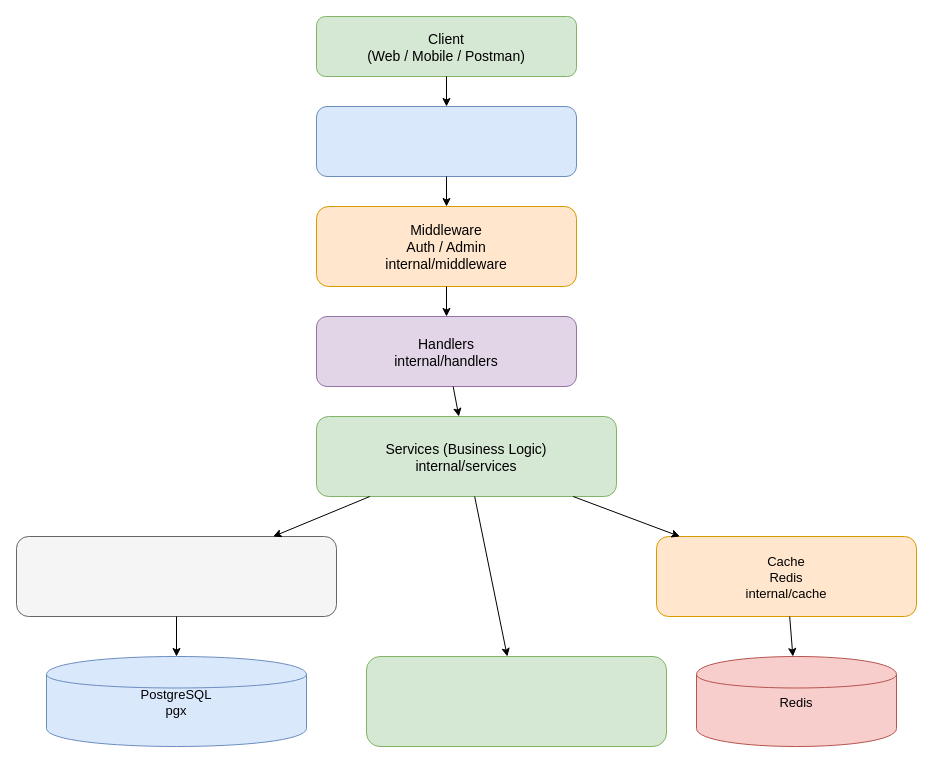
Some shapes in this 933 by 763 pixel diagram are drawn without their labels. The box of each missing label's shape, as (x1, y1, x2, y2) in pixels:
External Stock APIs internal/stockapi: (366, 656, 666, 746)
Repositories internal/repositories (interfaces + pgx): (16, 536, 336, 616)
Router (Chi Router) internal/routes: (316, 106, 576, 176)
